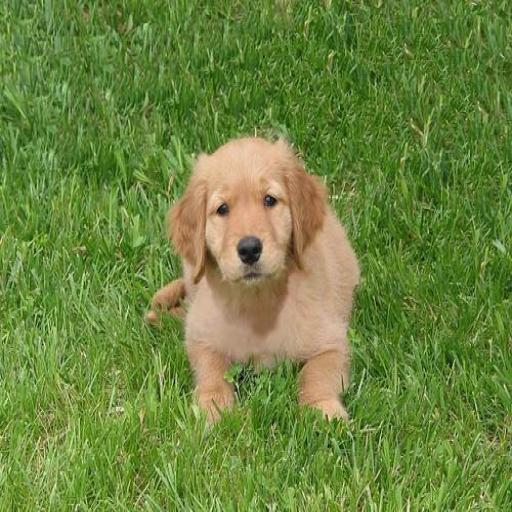dog_face: (167, 141, 321, 295)
